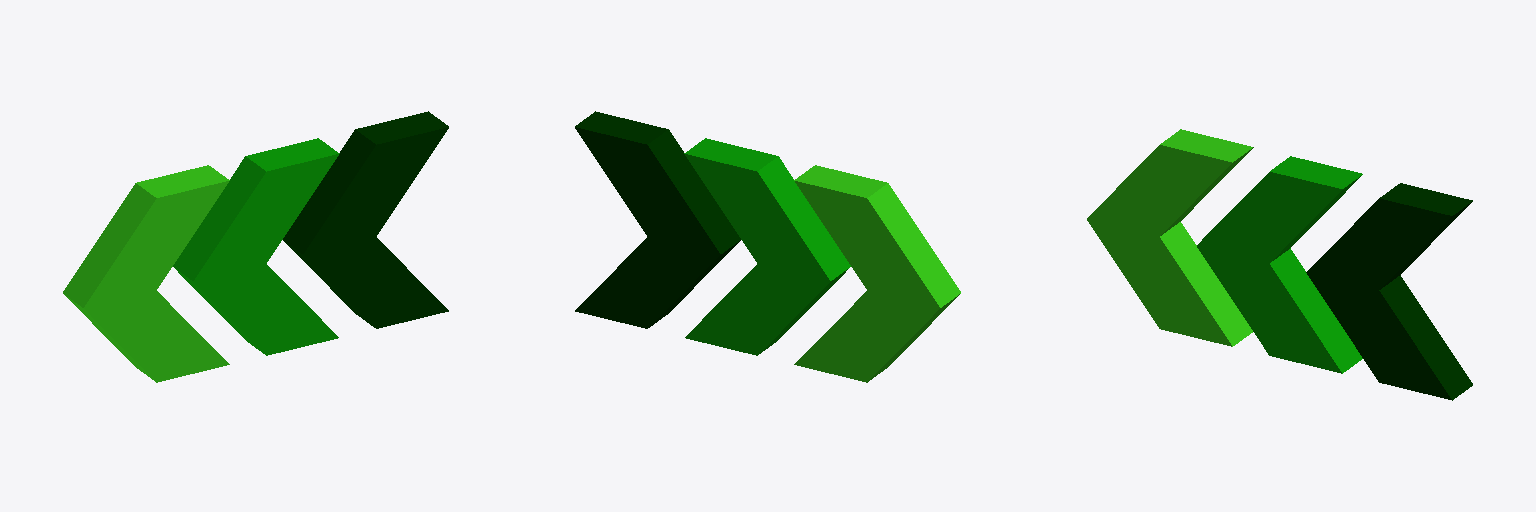
File: Speed.obj
The picture shows the model from 3 angles: view 1: azimuth 30°, elevation 25°; view 2: azimuth 150°, elevation 25°; view 3: azimuth 330°, elevation 25°; orthographic projection.
Parts seen in each view (by area): view 1: Cube.001_Cube.004, Cube.002_Cube.005, Cube_Cube.001; view 2: Cube.001_Cube.004, Cube.002_Cube.005, Cube_Cube.001; view 3: Cube.002_Cube.005, Cube.001_Cube.004, Cube_Cube.001.
Boxes of the visible parts, <box> form: Cube.001_Cube.004: <box>63,165,229,382</box>; Cube.002_Cube.005: <box>283,111,448,328</box>; Cube_Cube.001: <box>173,138,339,355</box>; Cube.001_Cube.004: <box>794,165,960,382</box>; Cube.002_Cube.005: <box>575,111,740,328</box>; Cube_Cube.001: <box>684,138,850,355</box>; Cube.002_Cube.005: <box>1306,183,1472,400</box>; Cube.001_Cube.004: <box>1087,129,1253,346</box>; Cube_Cube.001: <box>1197,156,1362,373</box>.
Size of the model in its own units: 1.76 by 0.8445 by 0.1755.